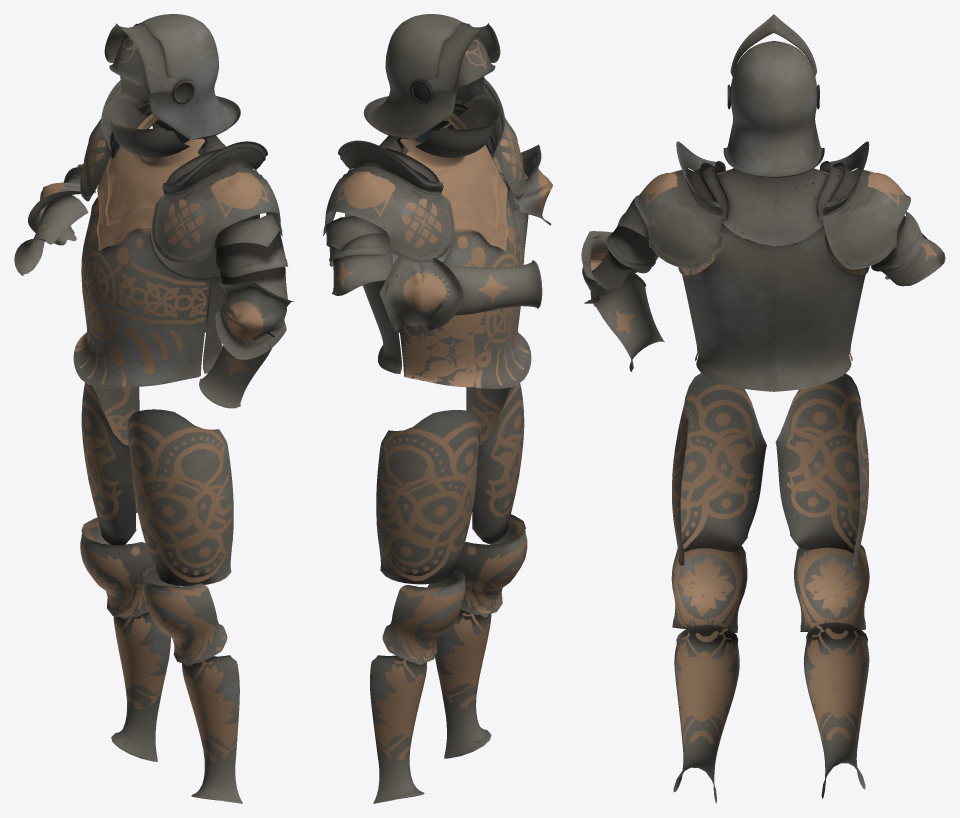
The model's file is SM_KnightArmor_Pose.fbx.
3 renders of one model, left to right at view 1: azimuth 30°, elevation 25°; view 2: azimuth 150°, elevation 25°; view 3: azimuth 270°, elevation 25°, orthographic. The views are drawn at different scales.
Visible parts, largest first — view 1: SM_KnightArmor_Pose_LOD0; view 2: SM_KnightArmor_Pose_LOD0; view 3: SM_KnightArmor_Pose_LOD0.
Boxes of the visible parts, <box> form: SM_KnightArmor_Pose_LOD0: <box>14,14,294,803</box>; SM_KnightArmor_Pose_LOD0: <box>323,14,552,803</box>; SM_KnightArmor_Pose_LOD0: <box>581,14,945,803</box>.
Size of the model in its own units: 59.39 by 97.02 by 222.
1 material, 1 textured.
